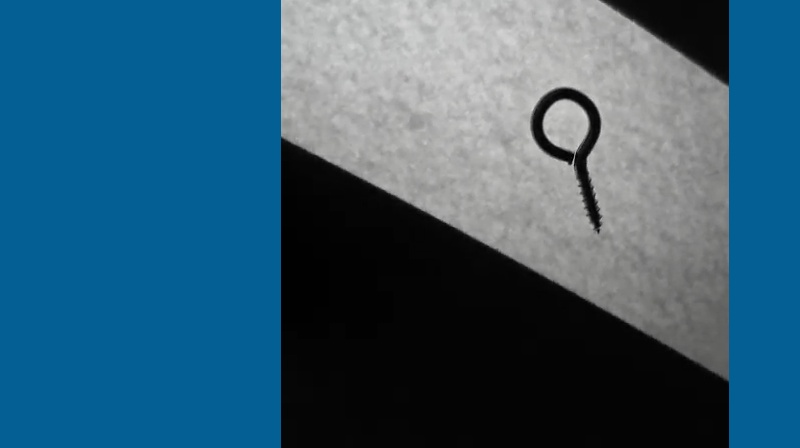O001: (529, 84, 603, 237)
